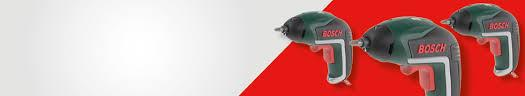screwdriver: (362, 15, 462, 95), (450, 2, 521, 80), (282, 9, 351, 83), (349, 38, 363, 48), (440, 17, 452, 25), (274, 25, 285, 33)
